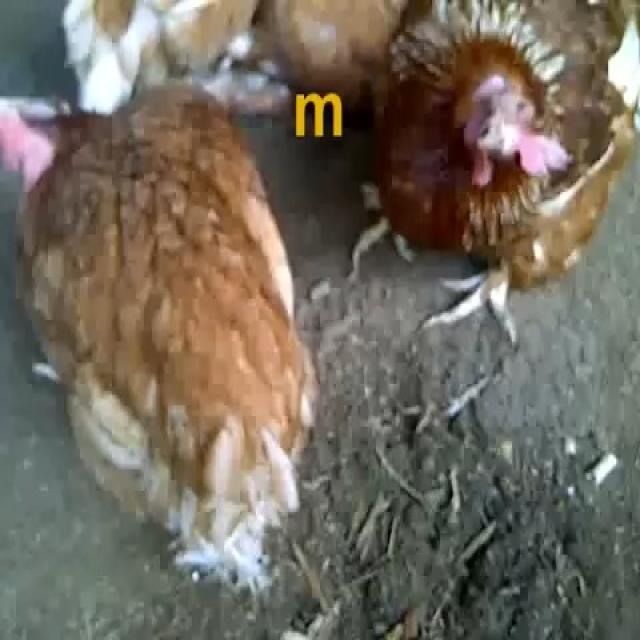bird flu: (0, 20, 327, 572), (361, 0, 639, 293)
